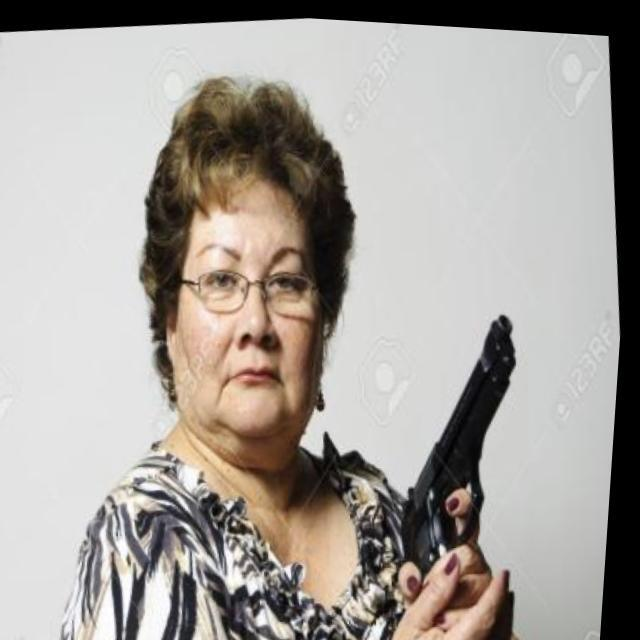weapon: (360, 293, 596, 640)
